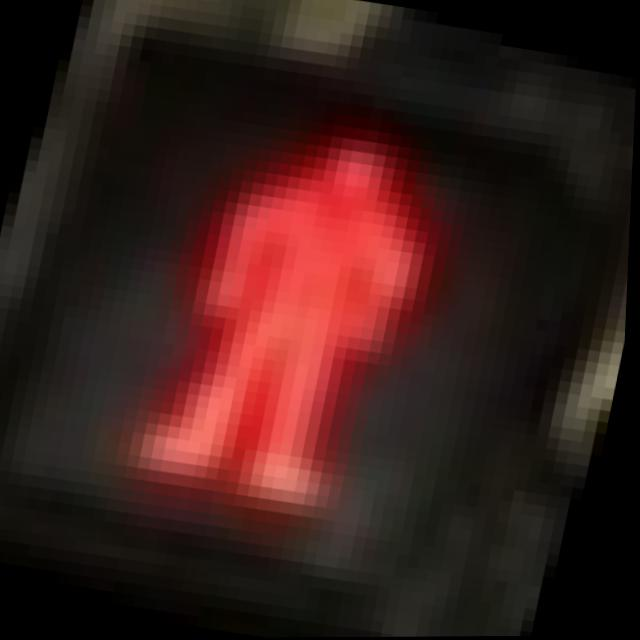red_light: (43, 56, 601, 619)
